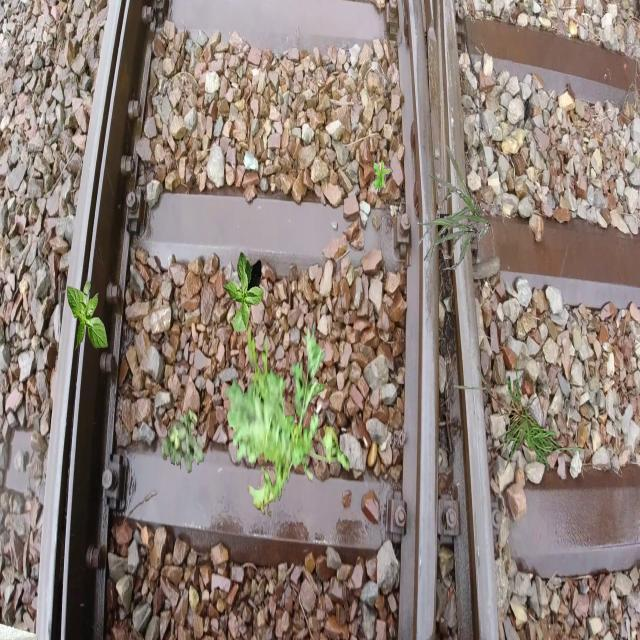Plant: (225, 322, 350, 518), (453, 354, 596, 474), (418, 145, 491, 270), (222, 252, 264, 332), (67, 280, 109, 351), (161, 407, 204, 474), (373, 160, 390, 192)
